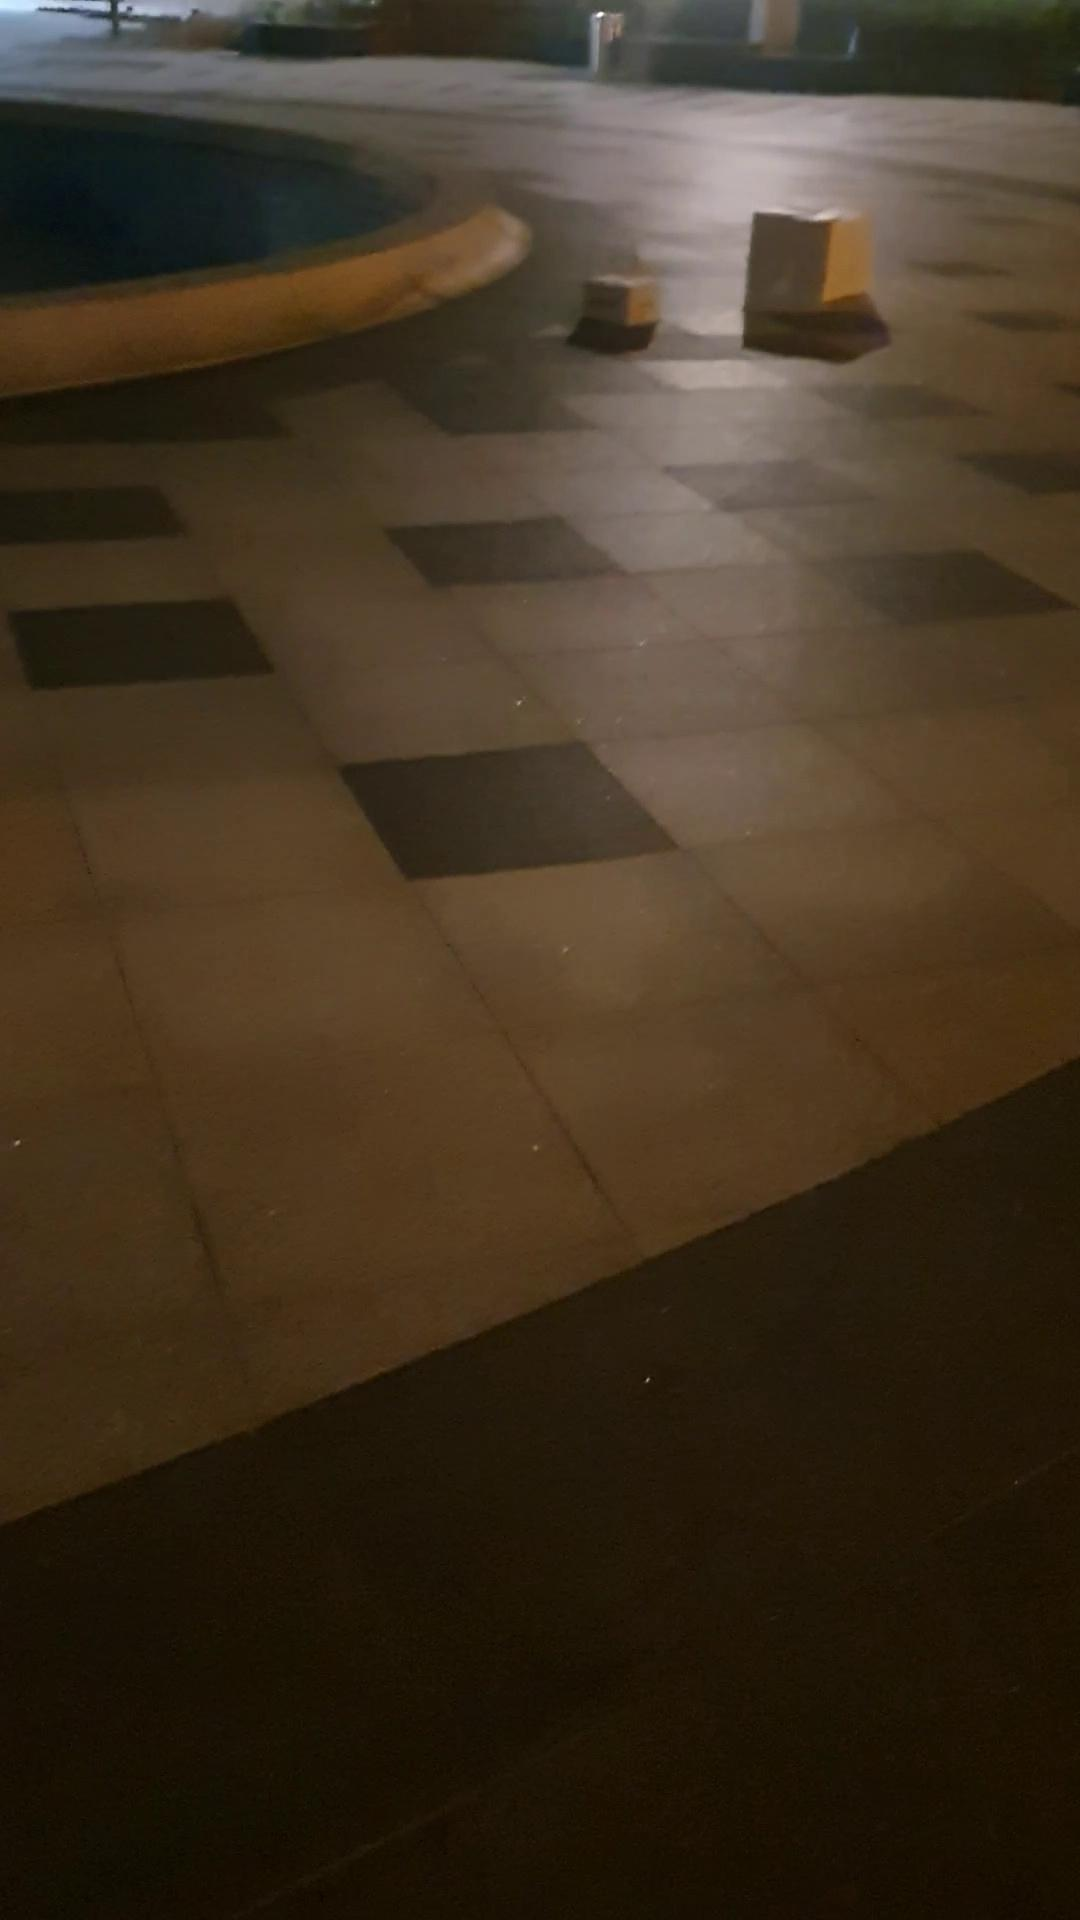Box: (746, 203, 876, 327), (585, 265, 662, 332)
